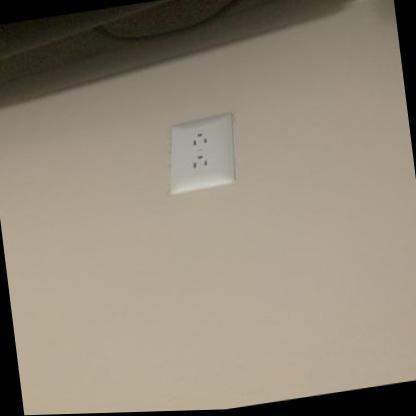OUTLET: (160, 110, 242, 196)
